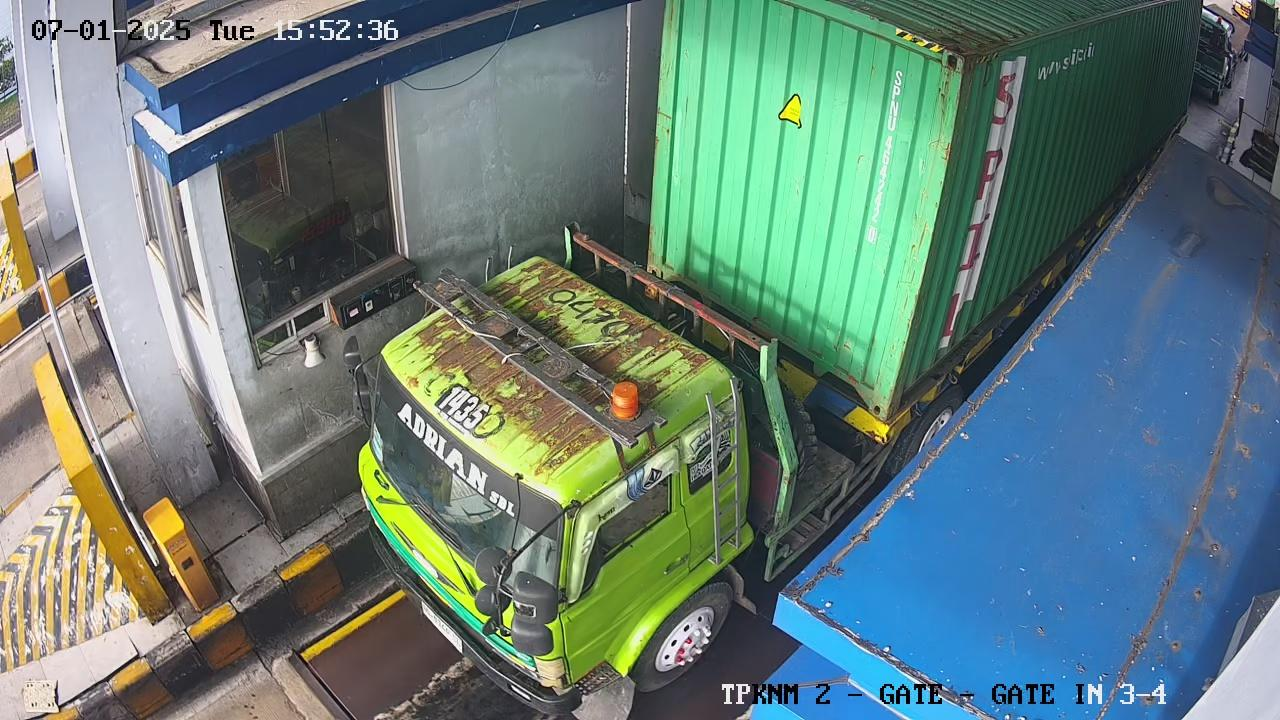Container_ID_Vertikal: (864, 70, 903, 244)
